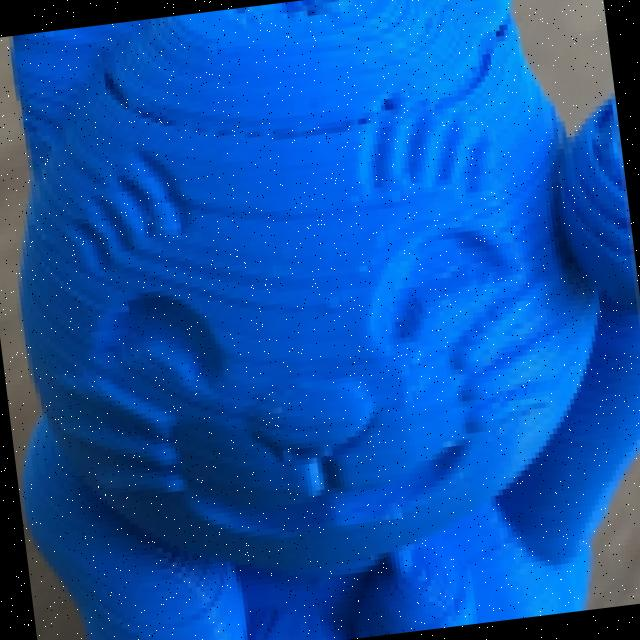cracks: (29, 10, 528, 184)
